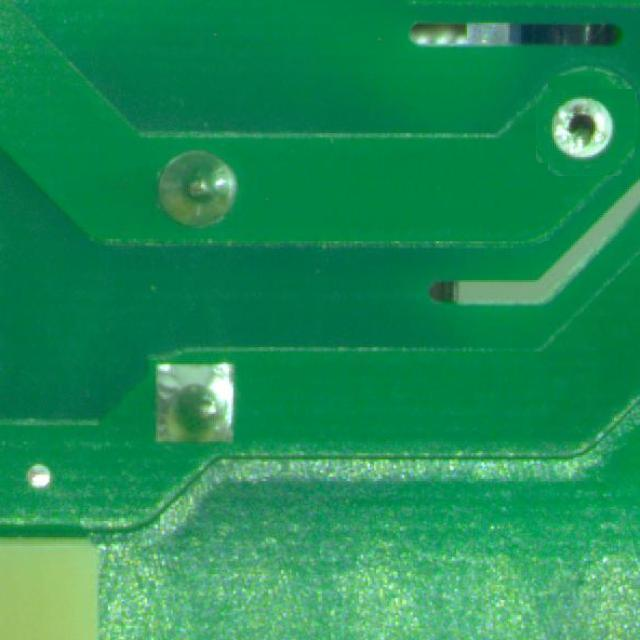lack_of_part: (542, 83, 628, 169)
